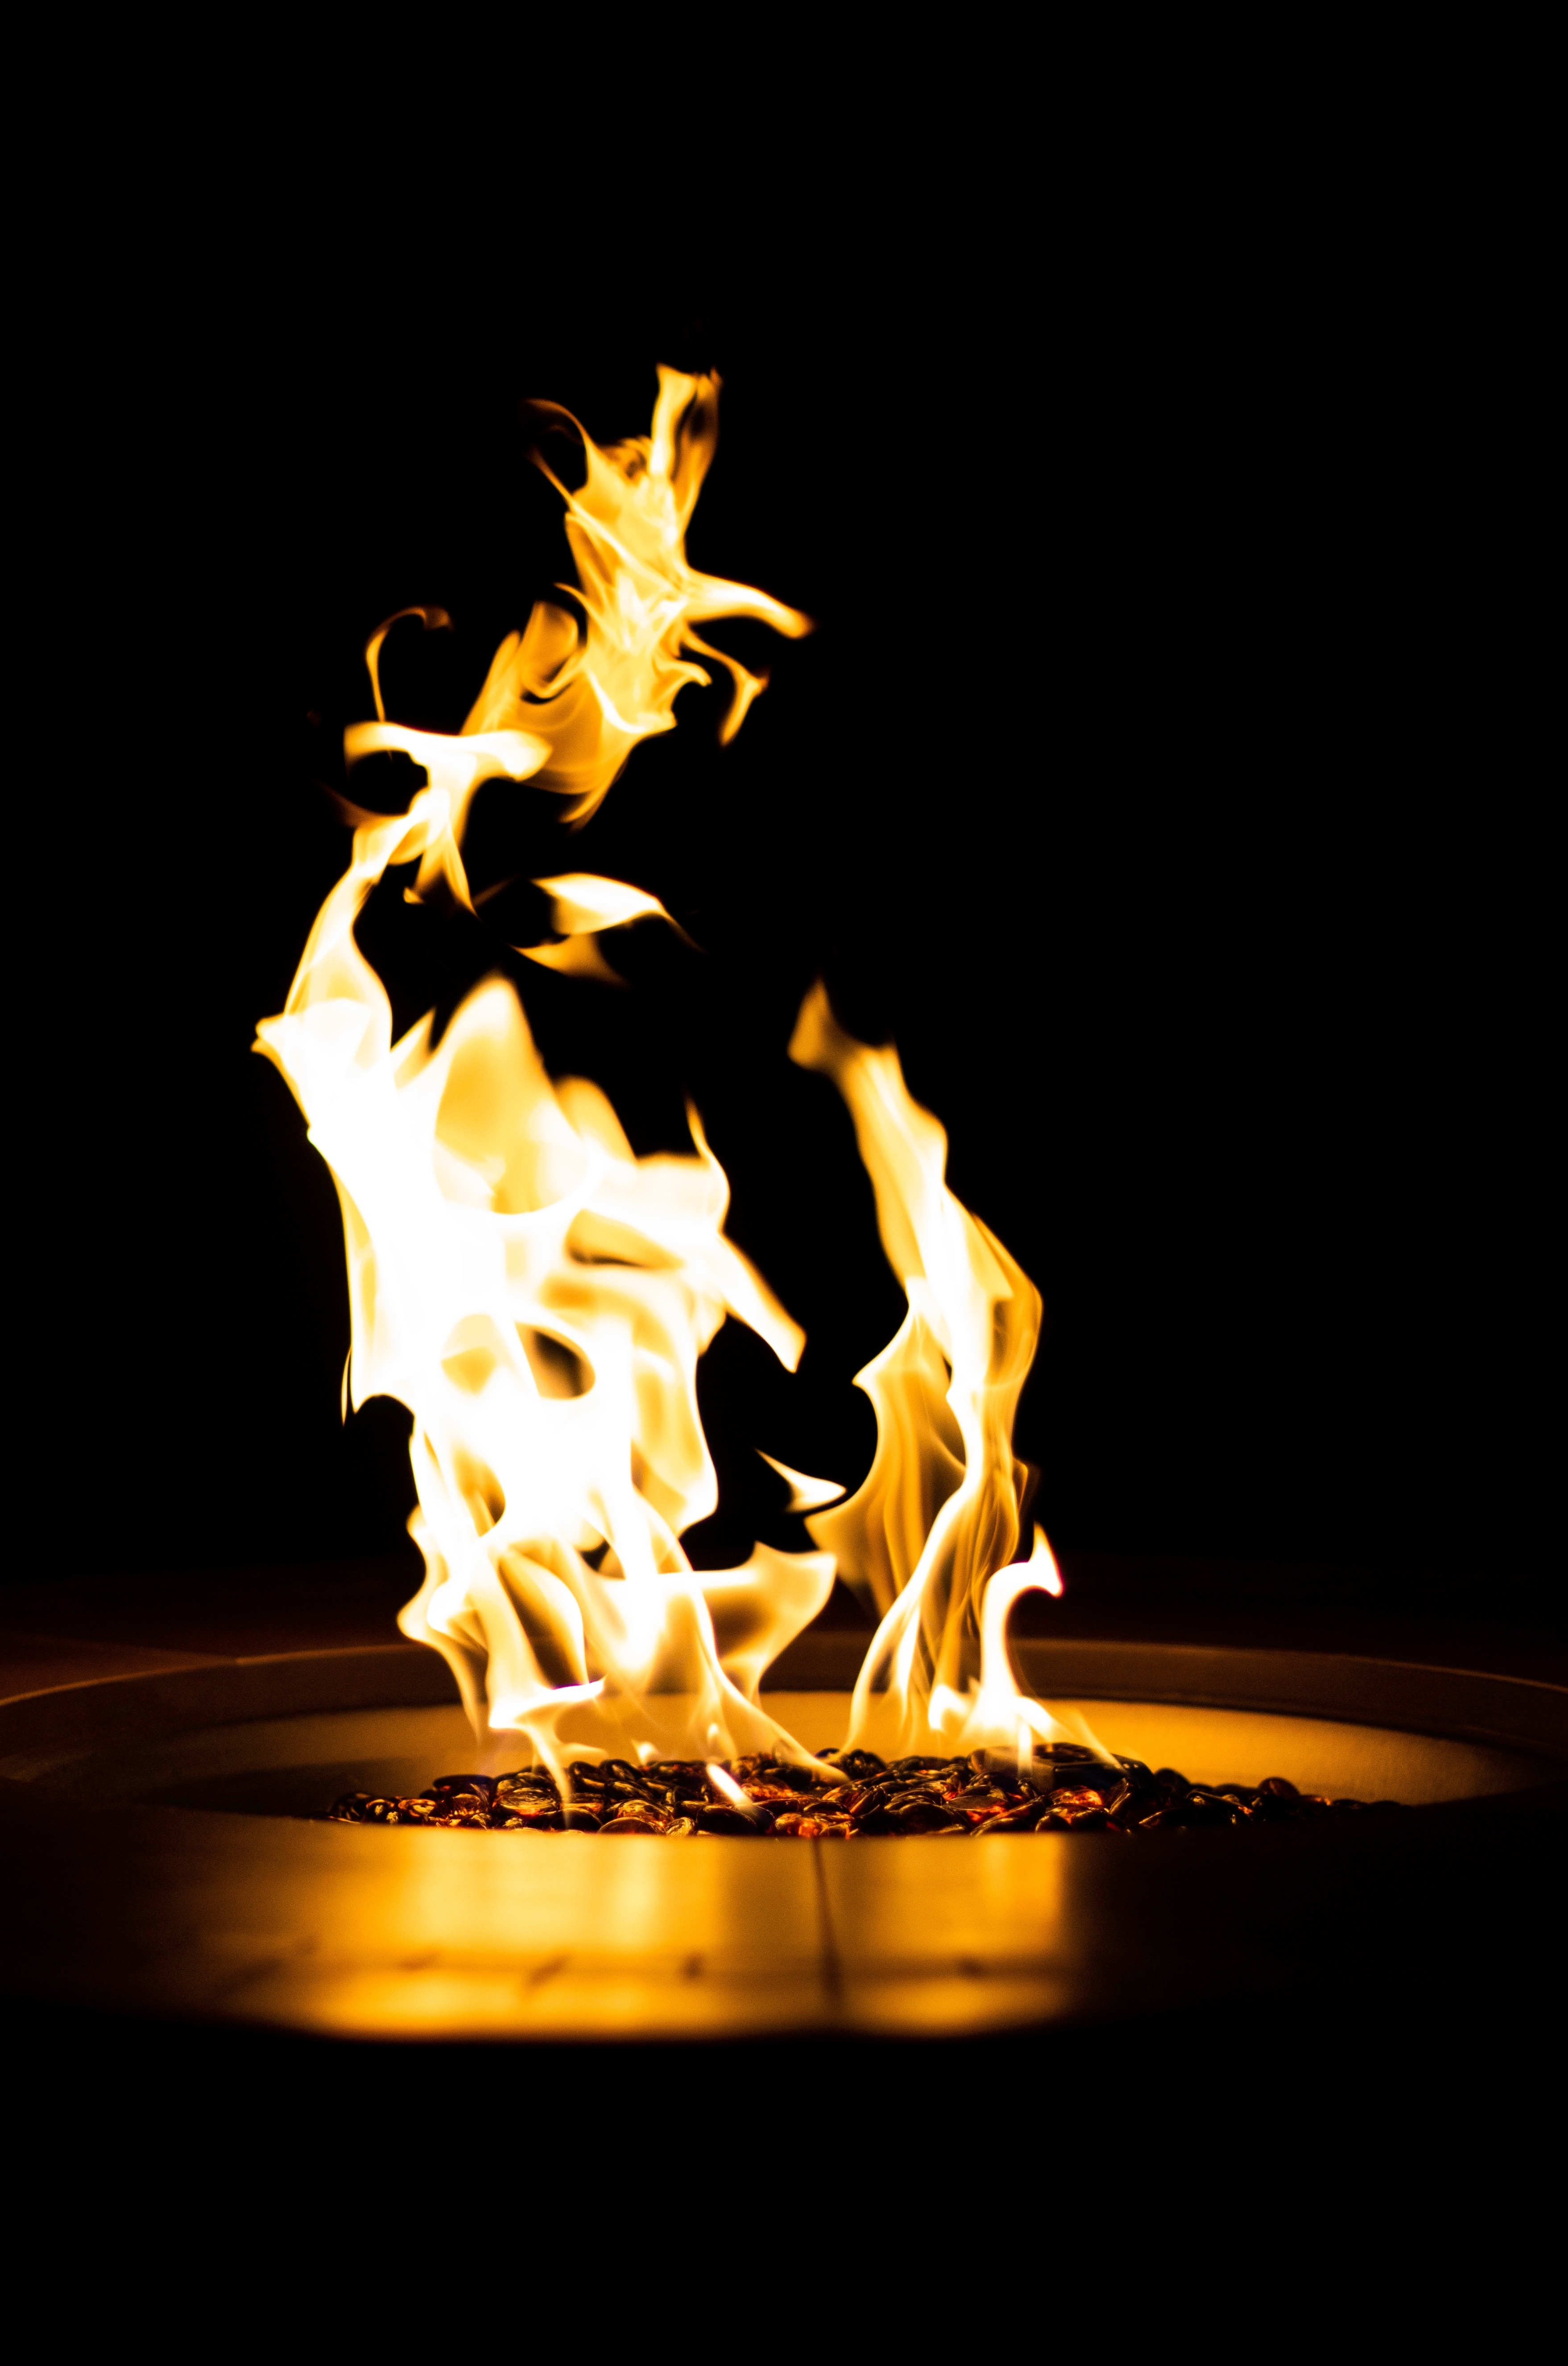fire: (268, 374, 1118, 1839)
